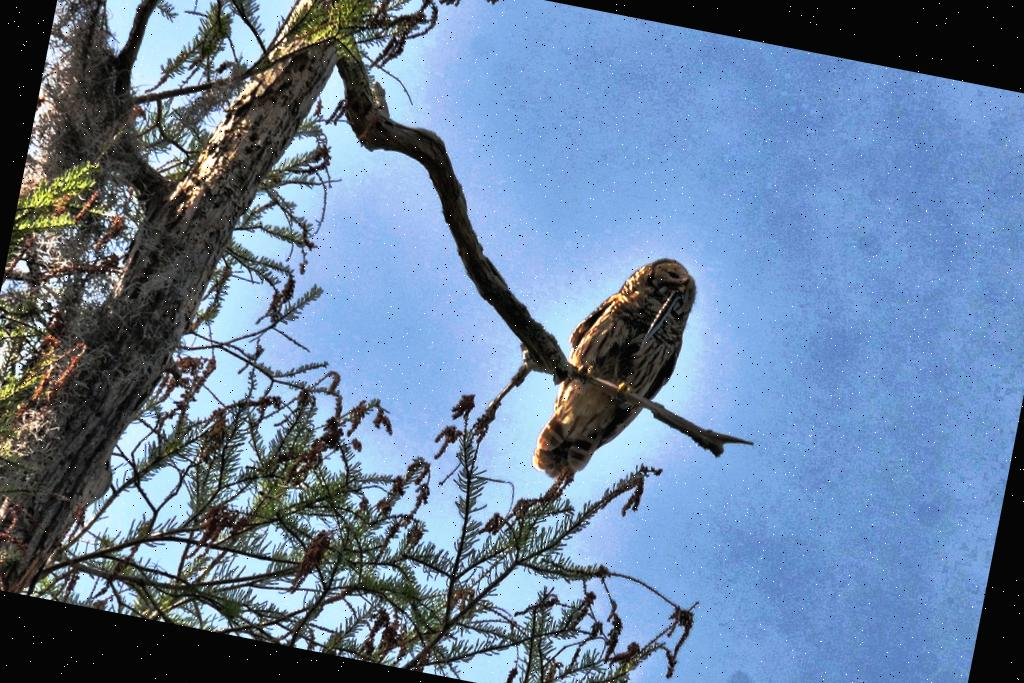Owl: (528, 243, 697, 505)
